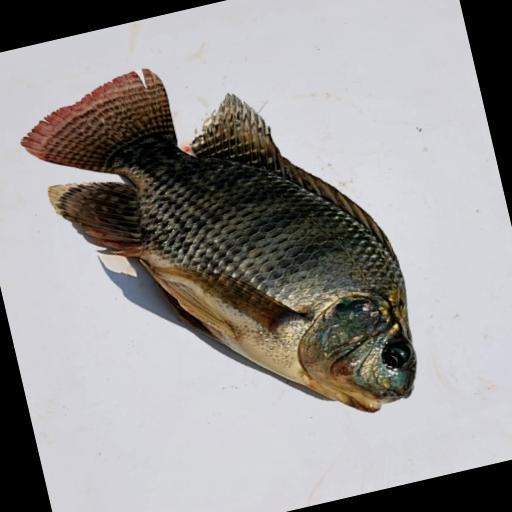Tilapia: (10, 21, 433, 477)
